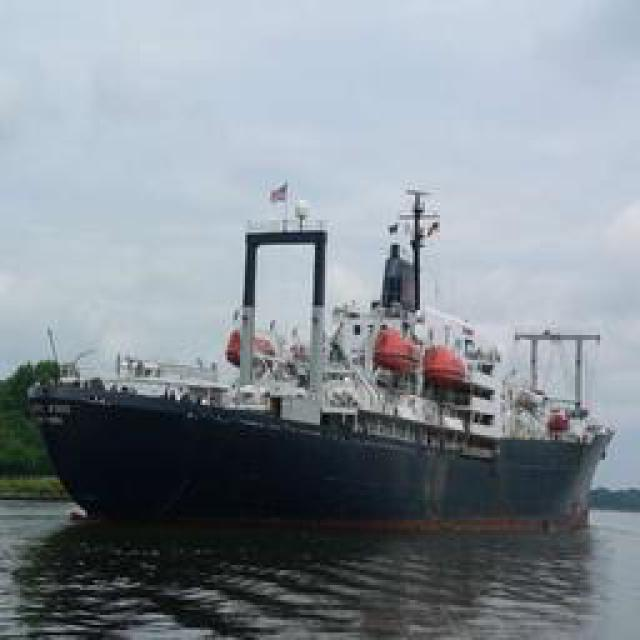Ship: (27, 163, 620, 518)
